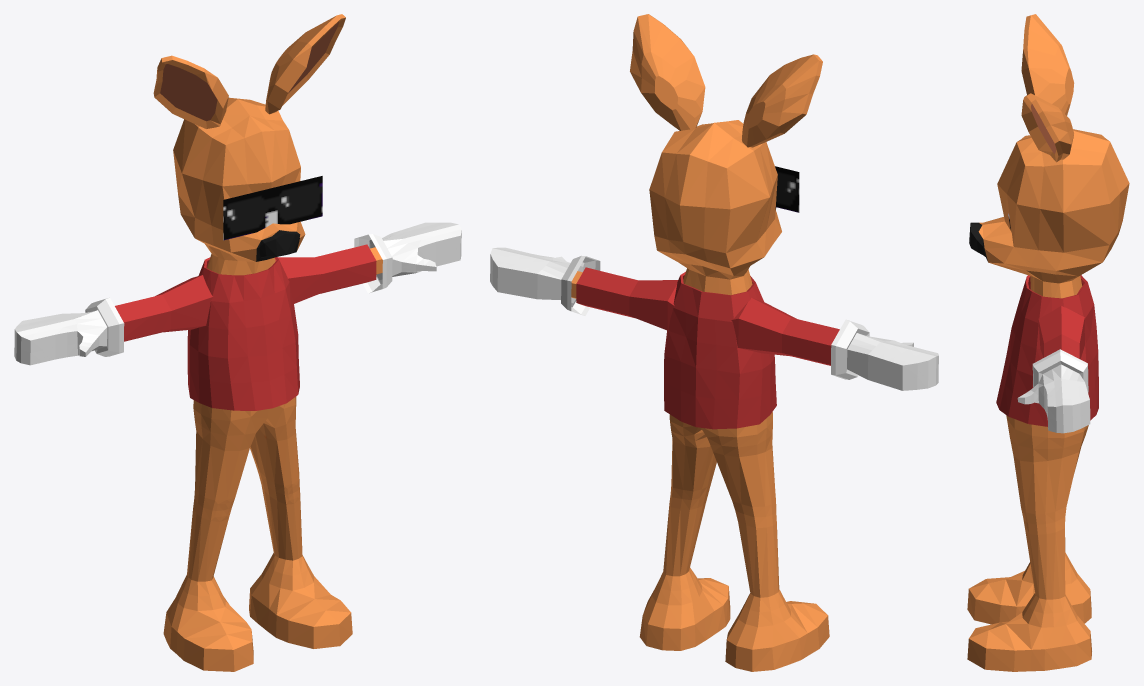
The model's file is mainChar.obj.
3 renders of one model, left to right at view 1: azimuth 30°, elevation 25°; view 2: azimuth 150°, elevation 25°; view 3: azimuth 270°, elevation 25°, orthographic. The views are drawn at different scales.
Visible parts, largest first — view 1: Body_Roundcube.002; view 2: Body_Roundcube.002; view 3: Body_Roundcube.002.
Part boxes in pixels (x1,y1,x2,y2): Body_Roundcube.002: [14, 14, 461, 671]; Body_Roundcube.002: [490, 14, 938, 671]; Body_Roundcube.002: [967, 14, 1129, 671].
Bounding box in the file's own units: 3.53 × 4.57 × 1.16.
